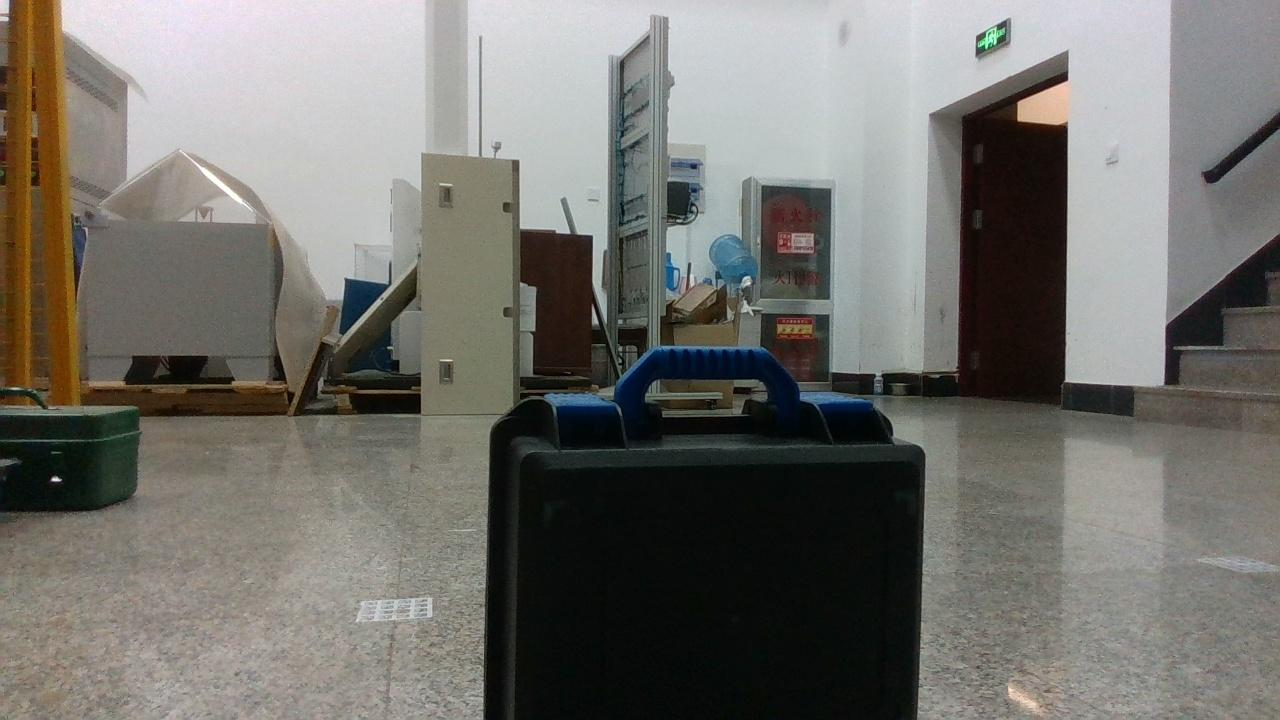toolkit: (485, 345, 925, 718)
